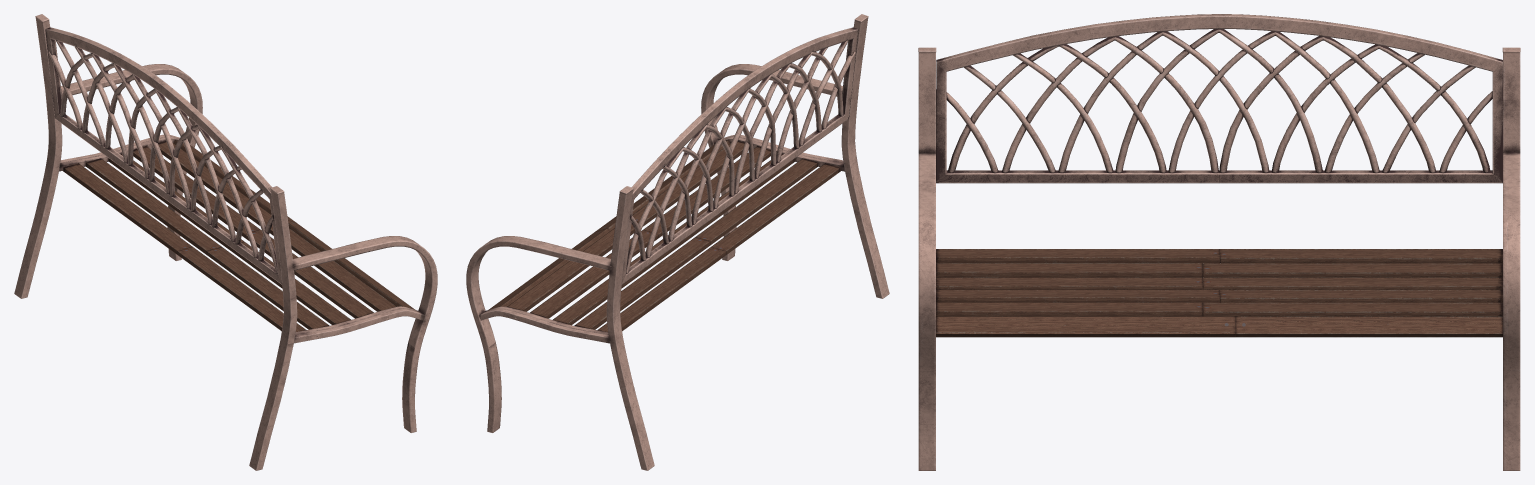
File: Banca.obj
3 renders of one model, left to right at view 1: azimuth 30°, elevation 25°; view 2: azimuth 150°, elevation 25°; view 3: azimuth 270°, elevation 25°, orthographic. The views are drawn at different scales.
Visible parts, largest first — view 1: defaultMaterial; view 2: defaultMaterial; view 3: defaultMaterial.
Part boxes in pixels (box(x1,y1,x2,y2)): defaultMaterial: box(14, 14, 437, 470); defaultMaterial: box(466, 14, 889, 470); defaultMaterial: box(918, 14, 1520, 470).
Bounding box in the file's own units: 3.29 × 5.18 × 7.6.
